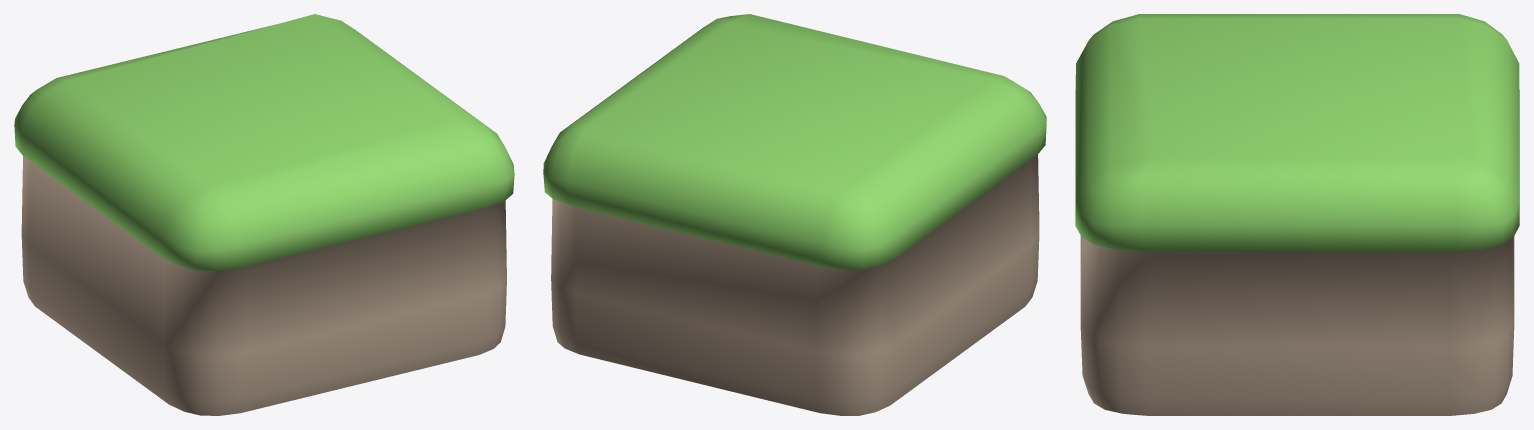
File: ground.FBX
3 views of the same model, side by side, from view 1: azimuth 30°, elevation 25°; view 2: azimuth 150°, elevation 25°; view 3: azimuth 270°, elevation 25° (orthographic). The views are drawn at different scales.
Parts seen in each view (by area): view 1: obj_33; view 2: obj_33; view 3: obj_33.
Boxes of the visible parts, x1=… form: obj_33: x1=14, y1=14, x2=514, y2=415; obj_33: x1=543, y1=14, x2=1046, y2=415; obj_33: x1=1075, y1=14, x2=1519, y2=415.
Bounding box in the file's own units: 1240 × 738 × 1237.
